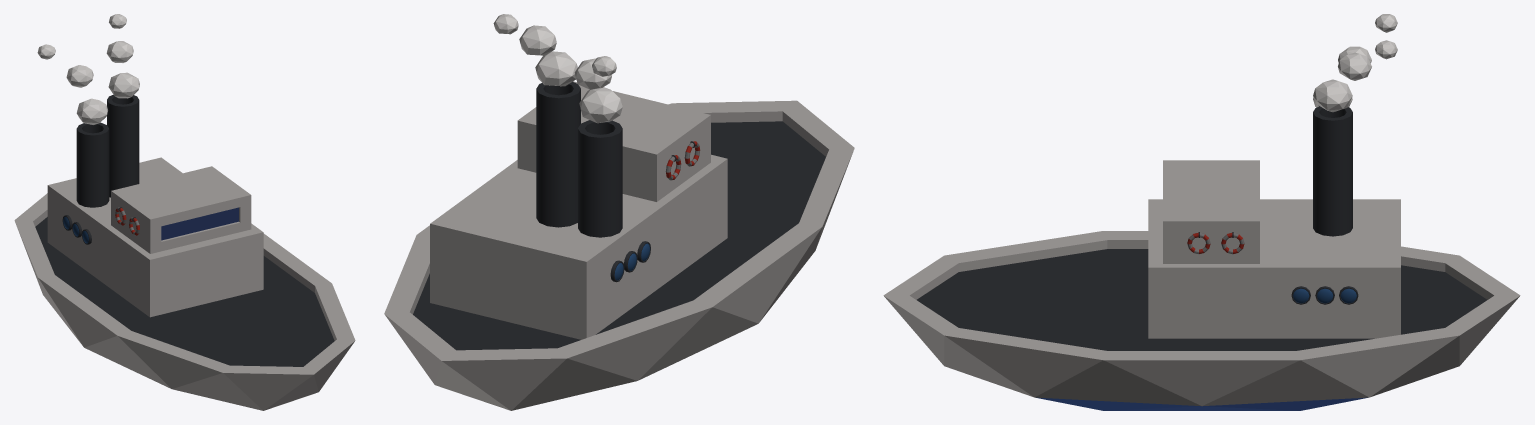
File: Ship_1.fbx
The picture shows the model from 3 angles, left to right: view 1: azimuth 30°, elevation 25°; view 2: azimuth 150°, elevation 25°; view 3: azimuth 270°, elevation 25°; orthographic projection. The views are drawn at different scales.
Parts seen in each view (by area): view 1: Ship_1; view 2: Ship_1; view 3: Ship_1.
Part boxes in pixels (x1,y1,x2,y2): Ship_1: (14, 14, 355, 410); Ship_1: (384, 14, 854, 410); Ship_1: (883, 14, 1520, 410).
Size of the model in its own units: 835 by 1079 by 1738.
